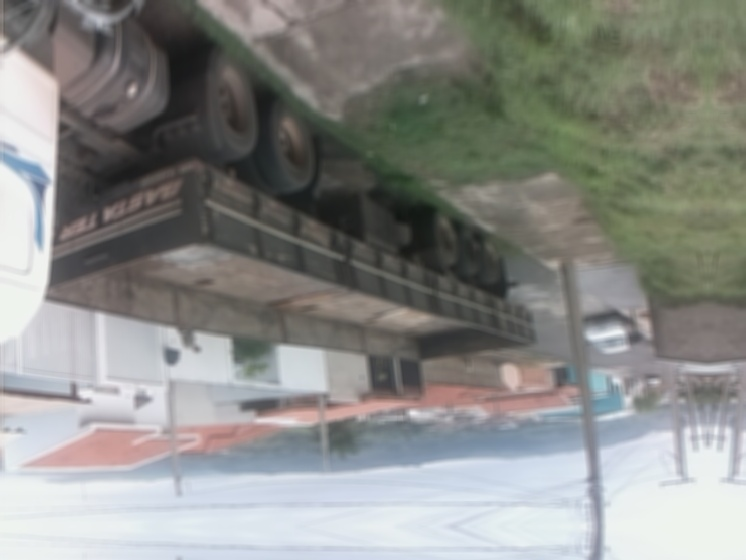person: (177, 326, 201, 354)
